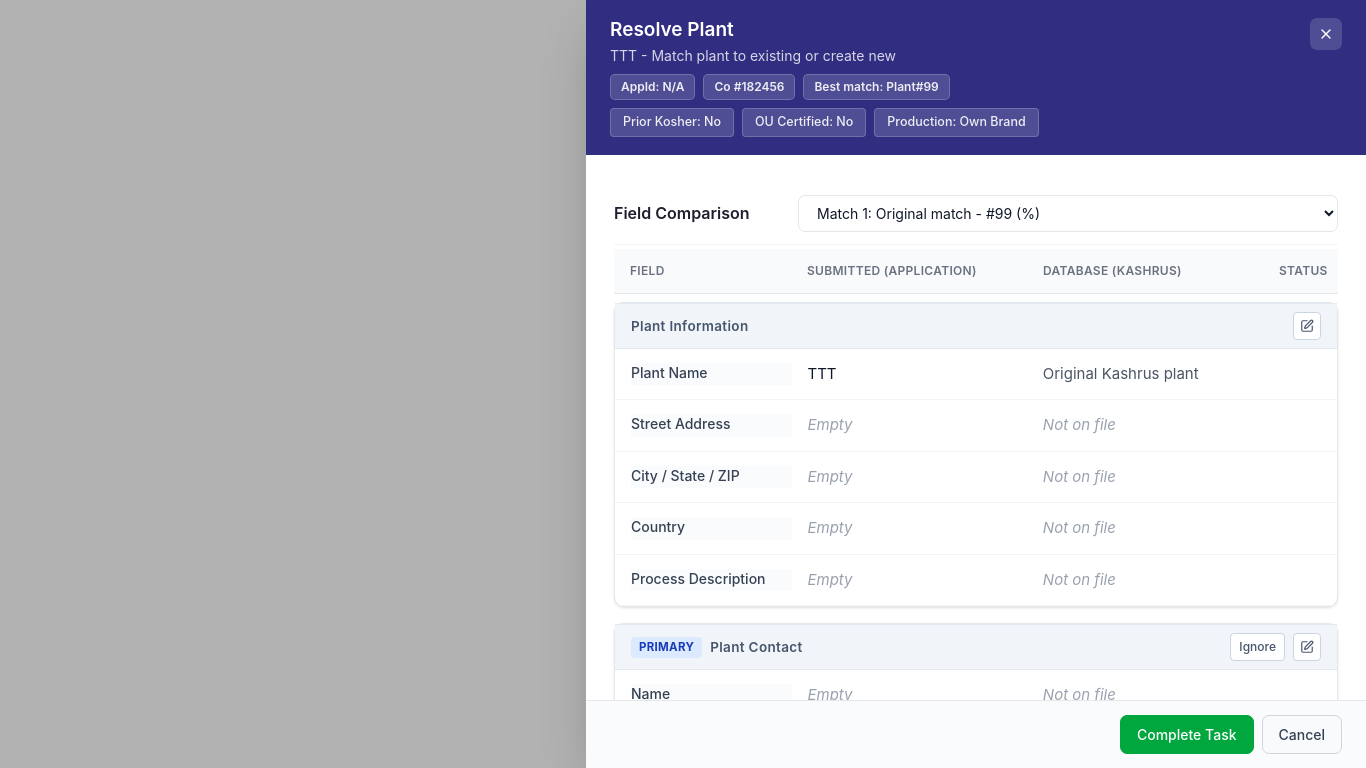
Test case: plant search › searches by name only, preserves selection on cancel, and loads the selected plant details
The image size is (1366, 768).
expect the text "Original Kashrus plant" is shown: met, box x1=1043 y1=364 x2=1199 y2=383
Select "+ Search Plant" in the dropdown at (1068, 213), box x1=798 y1=195 x2=1338 y2=232
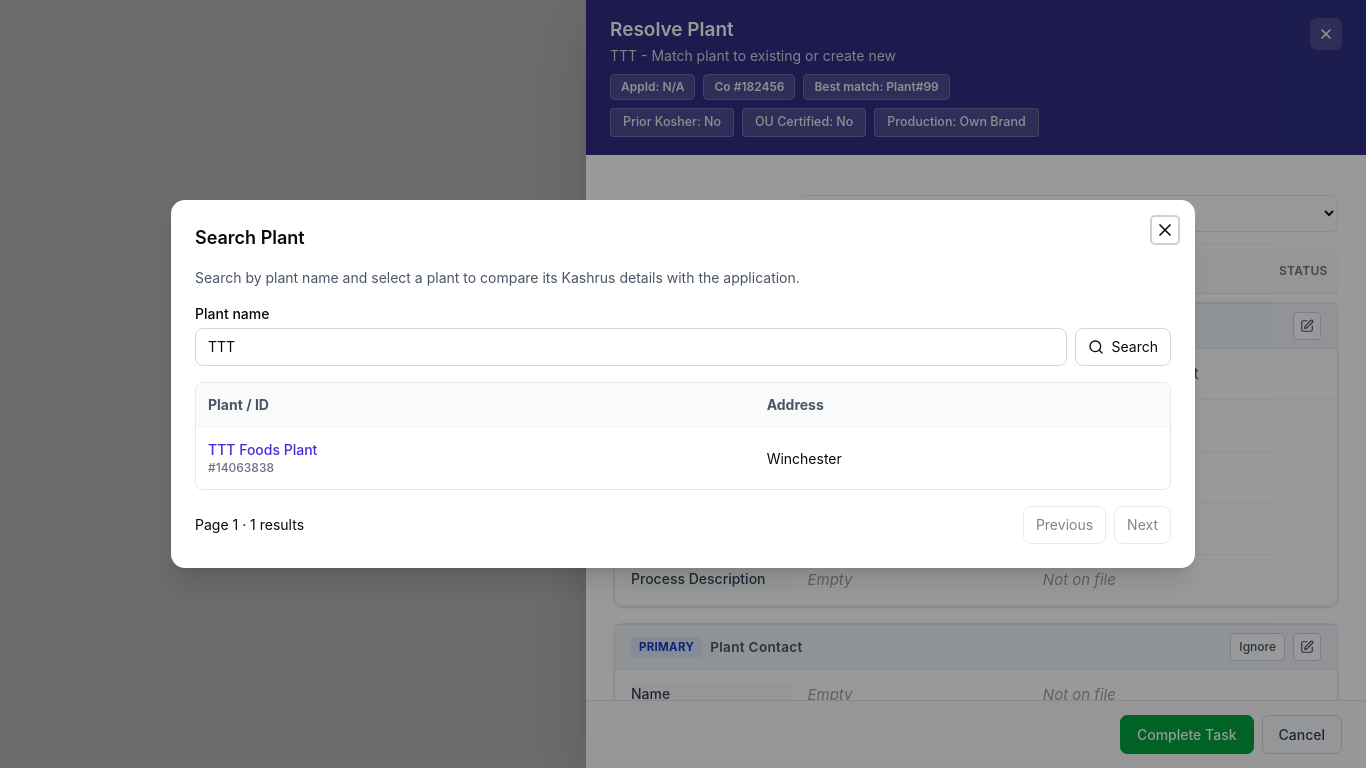
expect the text "TTT" is shown: met, box x1=808 y1=364 x2=837 y2=383
expect the field labelled "Plant name" holds "TTT": met, box x1=195 y1=328 x2=1066 y2=366
expect the button "TTT Foods Plant #14063838" is shown: met, box x1=208 y1=440 x2=317 y2=476
Click the button named "Close plant search".
click(1165, 230)  # box x1=1151 y1=216 x2=1179 y2=244
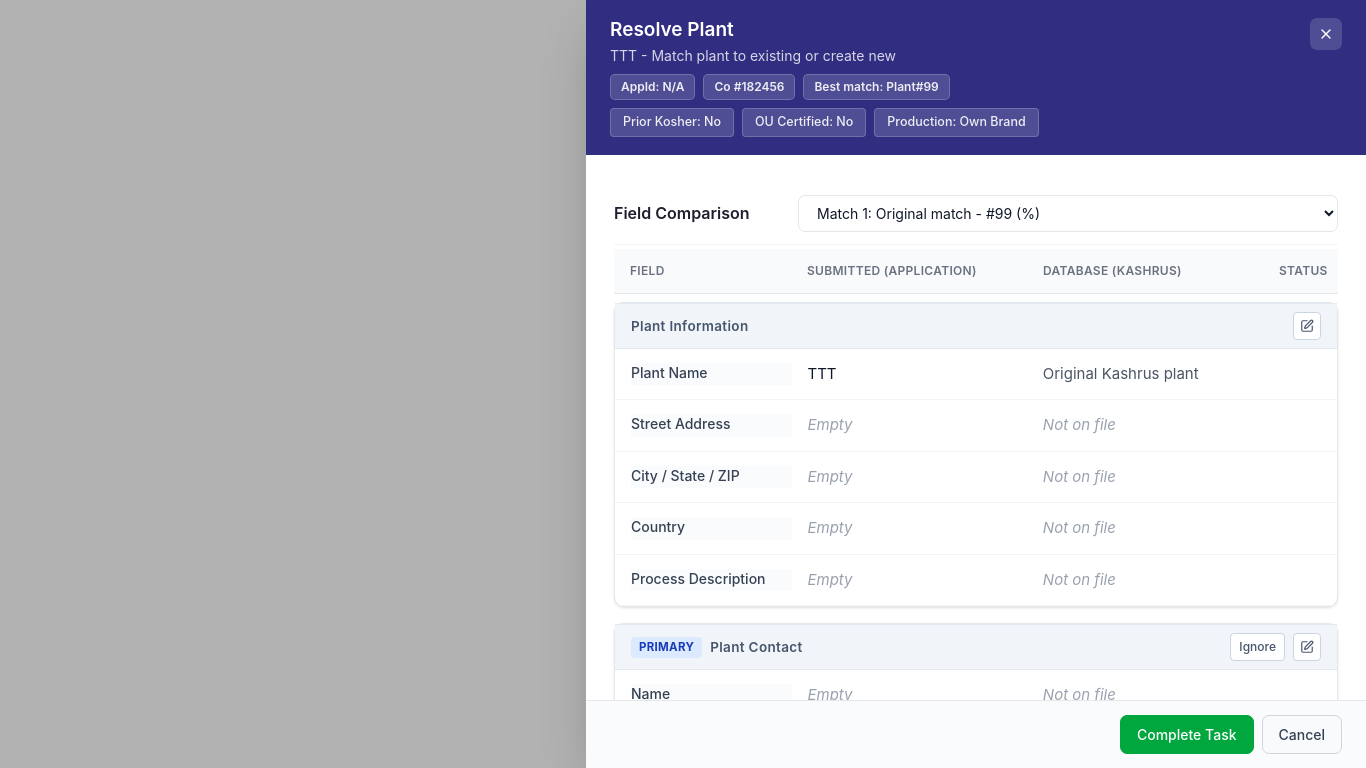
Select "+ Search Plant" in the dropdown at (1068, 213), box x1=798 y1=195 x2=1338 y2=232
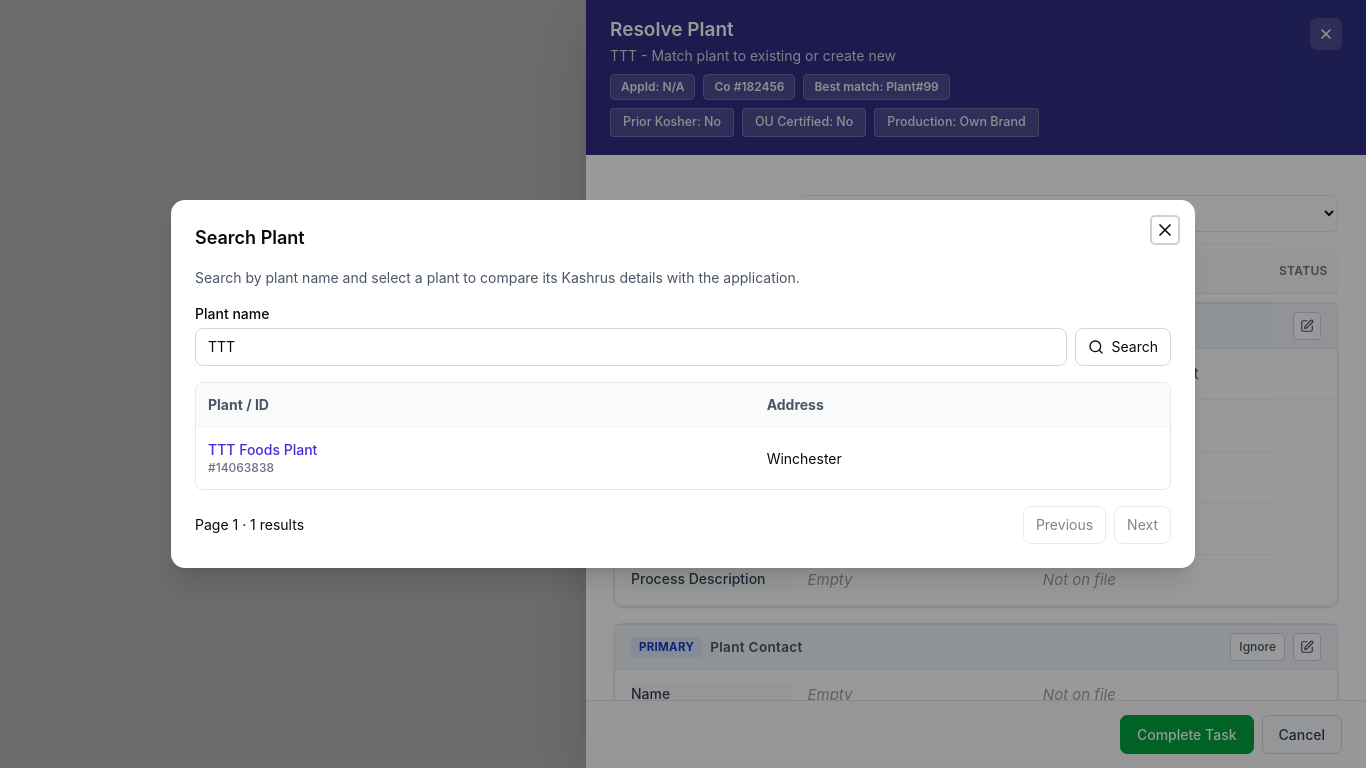
Click the button "TTT Foods Plant #14063838".
click(263, 458)  # box x1=208 y1=440 x2=317 y2=476
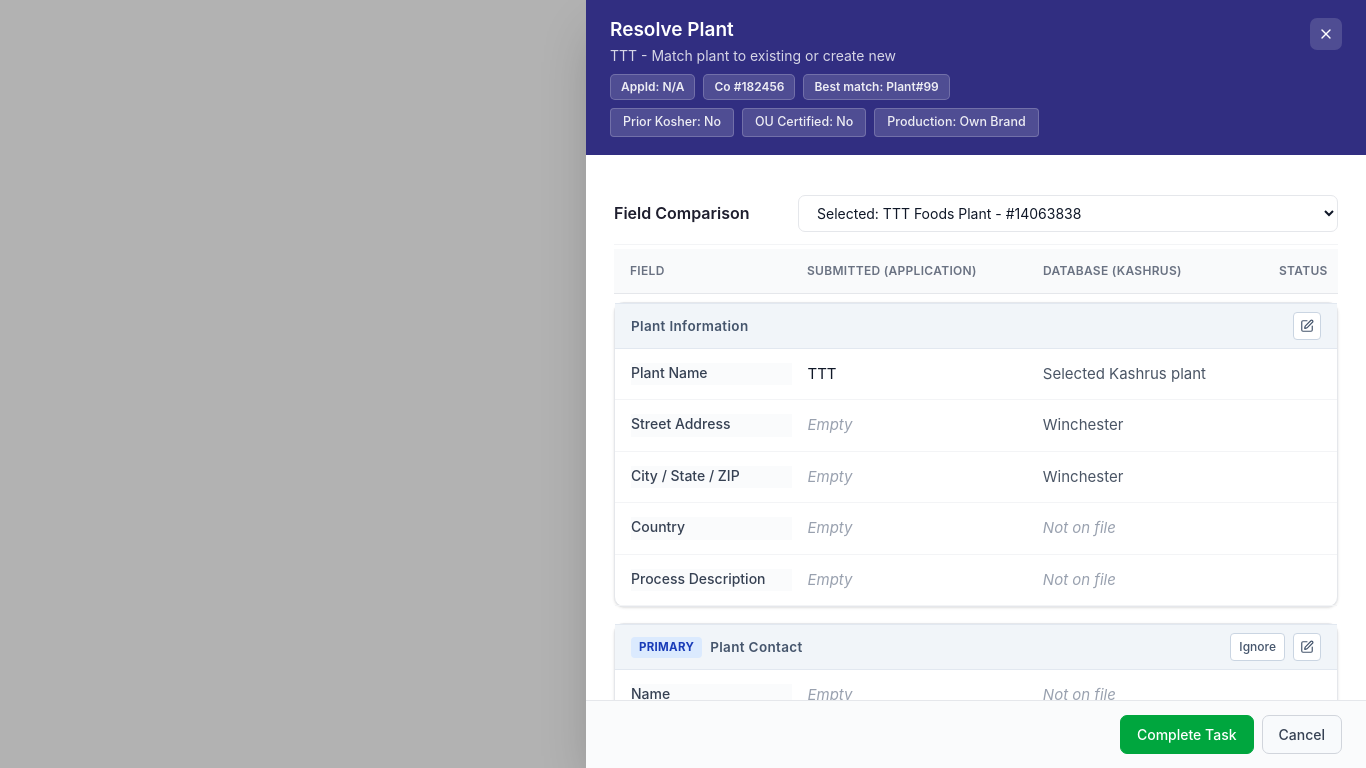
expect the dialog is gone: met
expect the text "Selected Kashrus plant" is shown: met, box x1=1043 y1=364 x2=1206 y2=383
